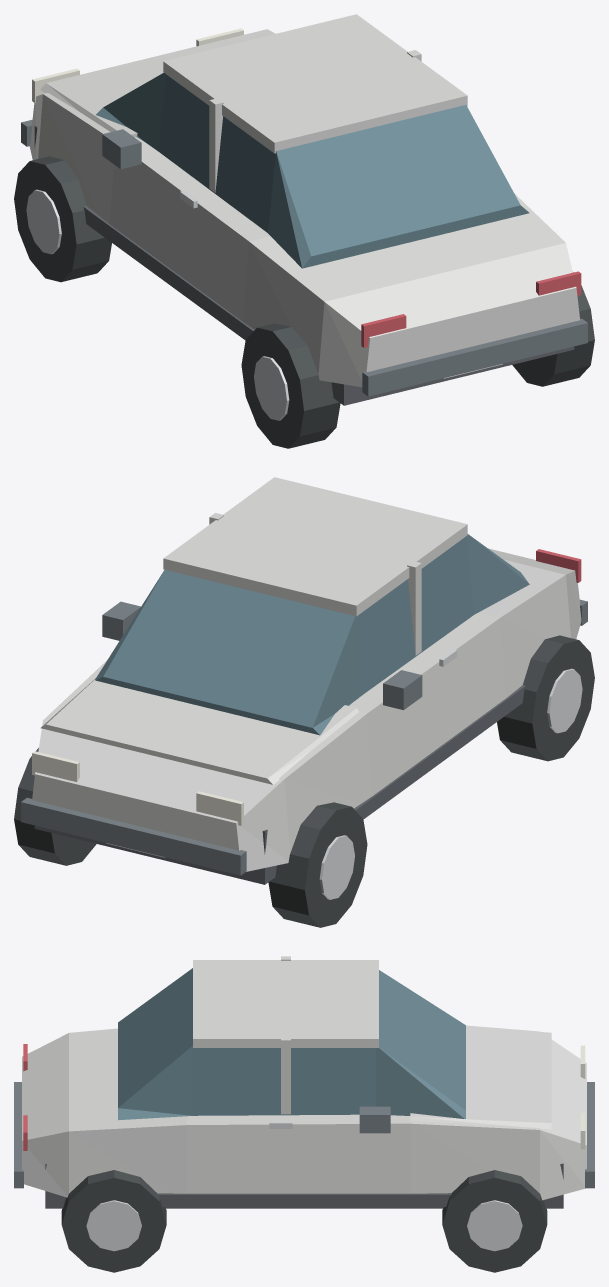
Rendered from fox.glb.
The picture shows the model from 3 angles, top to bottom: view 1: azimuth 30°, elevation 25°; view 2: azimuth 150°, elevation 25°; view 3: azimuth 270°, elevation 25°; orthographic projection. The views are drawn at different scales.
Visible parts, largest first — view 1: body_0001, cab_glass_0022, roof_0023, wheel_tire_0006, wheel_tire_0004, bumper_0027, hood_0002, lower_sill_0012, wheel_tire_0015, wheel_rim_0005, wheel_rim_0007, chassis_0000 (+4 smaller); view 2: body_0001, cab_glass_0022, roof_0023, hood_0002, wheel_tire_0004, wheel_tire_0006, bumper_0026, lower_sill_0012, wheel_tire_0013, wheel_rim_0007, wheel_rim_0005, chassis_0000 (+6 smaller); view 3: body_0001, cab_glass_0022, roof_0023, hood_0002, wheel_tire_0015, wheel_tire_0013, lower_sill_0021, wheel_rim_0014, wheel_rim_0016, chassis_0000, bumper_0026, mirror_0019 (+2 smaller).
Boxes of the visible parts, x1,y1,x2,y2 form: body_0001: (29, 93, 579, 387); cab_glass_0022: (96, 73, 529, 268); roof_0023: (163, 14, 467, 153); wheel_tire_0006: (241, 323, 340, 448); wheel_tire_0004: (14, 156, 111, 282); bumper_0027: (362, 318, 587, 396); hood_0002: (40, 29, 275, 137); lower_sill_0012: (83, 206, 254, 340); wheel_tire_0015: (512, 272, 594, 386); wheel_rim_0005: (26, 189, 61, 254); wheel_rim_0007: (254, 356, 289, 420); chassis_0000: (34, 125, 574, 405); body_0001: (32, 548, 581, 871); cab_glass_0022: (95, 534, 529, 735); roof_0023: (163, 477, 467, 616); hood_0002: (40, 678, 358, 784); wheel_tire_0004: (268, 802, 367, 927); wheel_tire_0006: (497, 635, 594, 761); bumper_0026: (21, 797, 246, 875); lower_sill_0012: (354, 685, 525, 819); wheel_tire_0013: (14, 747, 96, 865); wheel_rim_0007: (547, 668, 582, 733); wheel_rim_0005: (319, 835, 354, 899); chassis_0000: (34, 825, 276, 884); body_0001: (22, 1025, 586, 1200); cab_glass_0022: (118, 968, 465, 1120); roof_0023: (193, 960, 378, 1047); hood_0002: (410, 1026, 551, 1129); wheel_tire_0015: (61, 1170, 166, 1272); wheel_tire_0013: (442, 1170, 547, 1272); lower_sill_0021: (157, 1193, 451, 1206); wheel_rim_0014: (467, 1200, 522, 1251); wheel_rim_0016: (86, 1200, 141, 1251); chassis_0000: (45, 1163, 563, 1208); bumper_0026: (585, 1082, 594, 1188); mirror_0019: (359, 1106, 390, 1133).
Bounding box in the file's own units: 1.89 × 1.54 × 3.77.
